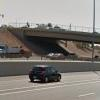Bridge: (13, 19, 95, 58)
